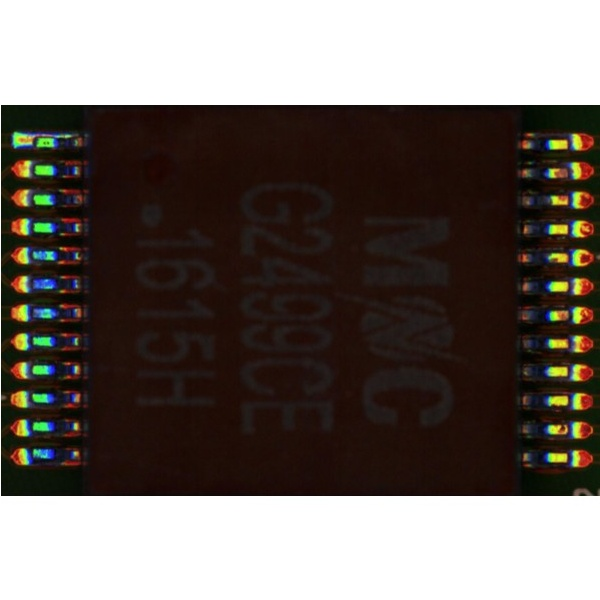Bad_podu: (24, 136, 41, 144)
Bad_qiaojiao: (34, 132, 73, 136)
